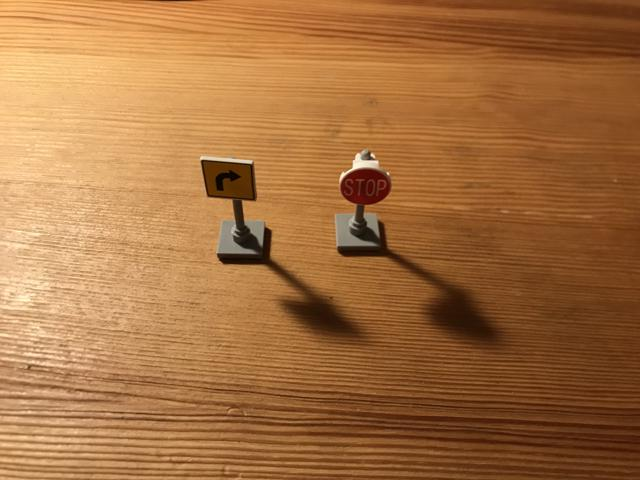fahrtrichtung rechts: (199, 156, 257, 201)
stop: (339, 167, 393, 205)
